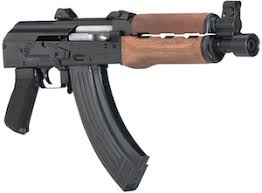gun: (1, 1, 262, 193)
